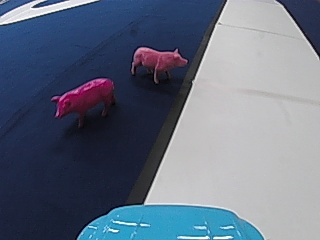pig: (49, 73, 115, 128), (128, 43, 188, 82)
